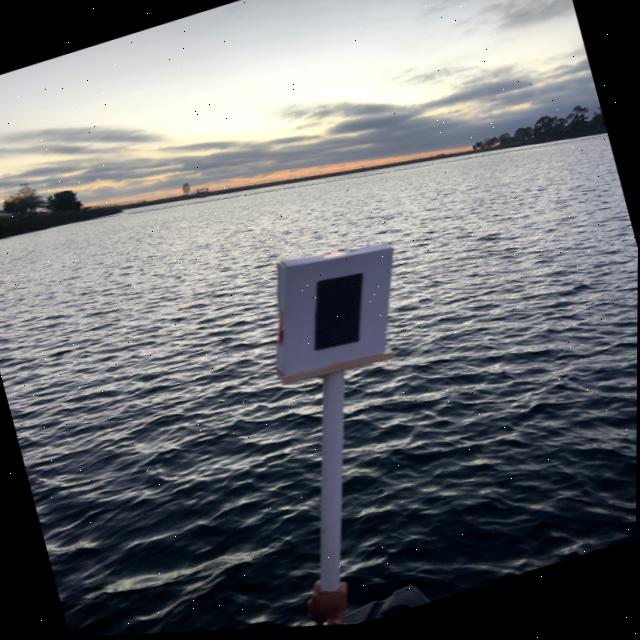led: (279, 259, 386, 376)
